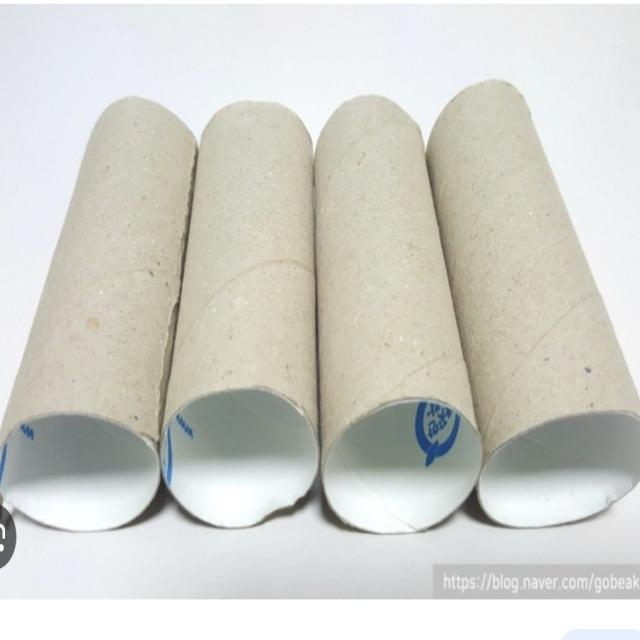biodegradable: (426, 59, 639, 538), (10, 57, 202, 537), (305, 60, 484, 554), (153, 69, 326, 556)
